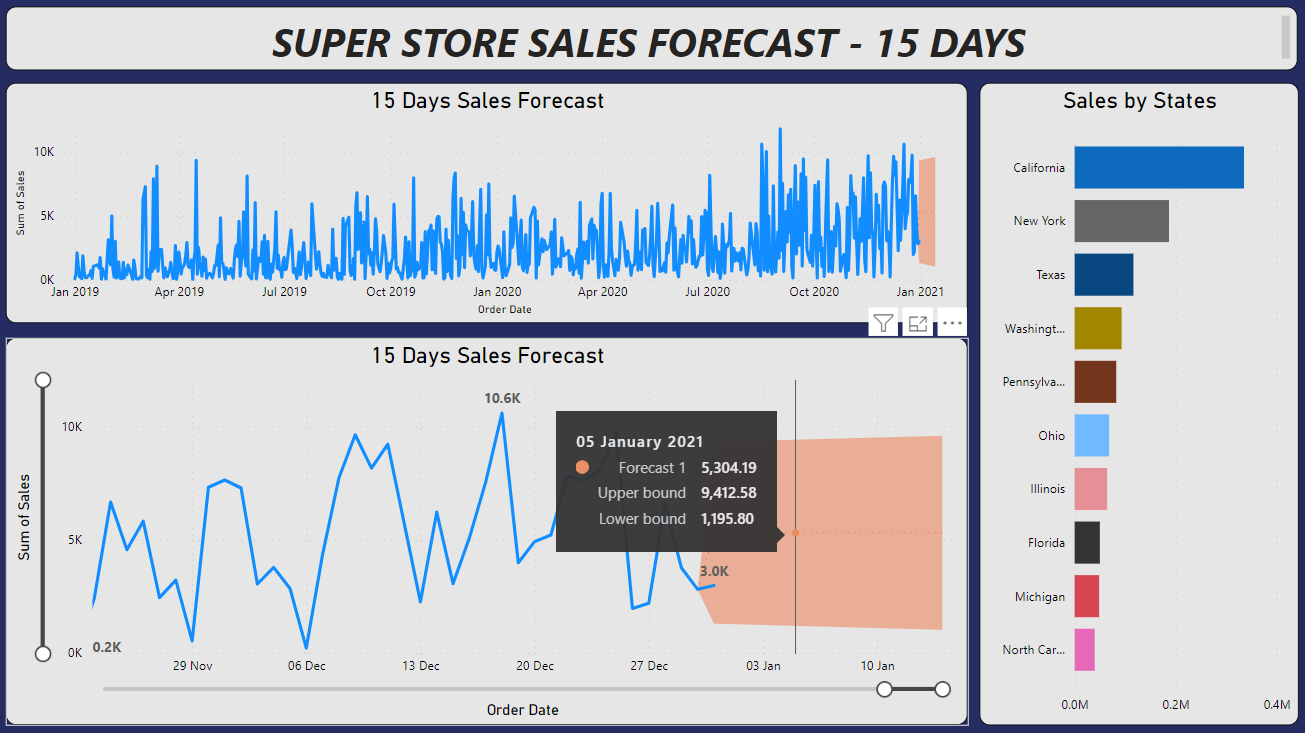

What the dashboard file says about the page in this screenshot:
{"tool":"powerbi","page":{"name":"Page 2","canvas":[1280,720],"ordinal":1},"visuals":[{"type":"lineChart","title":"15 Days Sales Forecast","fields":{"Y":["Sum(SuperStore_Sales_Dataset.Sales)"],"Category":["SuperStore_Sales_Dataset.Order Date"]},"box":[18.7,85.3,928,232],"z":0},{"type":"lineChart","title":"15 Days Sales Forecast","fields":{"Y":["Sum(SuperStore_Sales_Dataset.Sales)"],"Category":["SuperStore_Sales_Dataset.Order Date"]},"box":[18.7,332,928,373.3],"z":1000},{"type":"clusteredBarChart","title":"Sales by States","fields":{"Y":["Sum(SuperStore_Sales_Dataset.Sales)"],"Category":["SuperStore_Sales_Dataset.State"]},"box":[957.3,85.3,308,620],"z":2000},{"type":"textbox","box":[18.7,12,1246.7,61.3],"z":3000}]}

Visuals, with their boxes in screenshot pixels (x1, y1, x2, y2), scaled from the page's 1280x720 canvas onto the 1305x733 screenshot:
"15 Days Sales Forecast" lineChart: select_region(19, 87, 965, 323)
"15 Days Sales Forecast" lineChart: select_region(19, 338, 965, 718)
"Sales by States" clusteredBarChart: select_region(976, 87, 1290, 718)
textbox: select_region(19, 12, 1290, 75)
